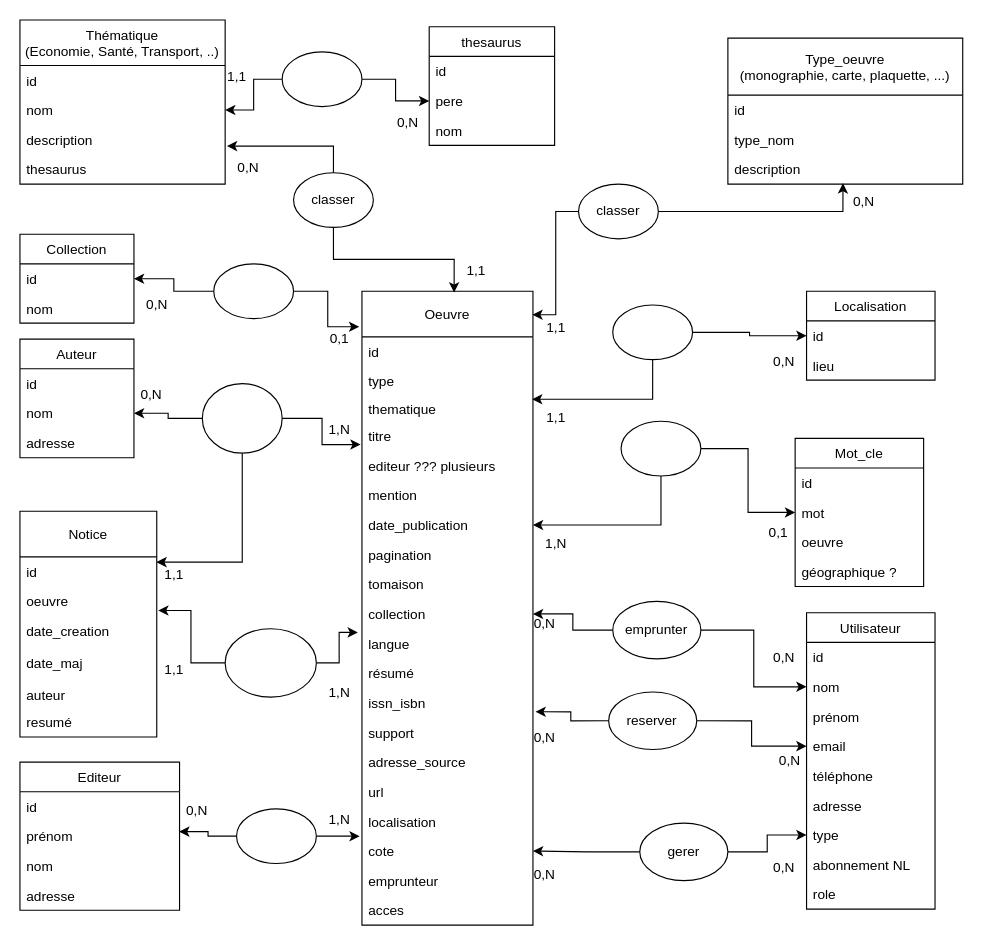
The diagram is 983 pixels wide and 948 high, and some of its shapes have lost their labels. The shapes that lost their labels are listed below. From the top down, each one's centre as x and y in pixels, then its label:
At point (321, 79): "reférence".
At point (253, 291): "appartenir".
At point (652, 332): "localiser".
At point (241, 417): "ecrire".
At point (660, 448): "rechercher".
At point (270, 662): "Creer / Modifier".
At point (275, 836): "editer".
